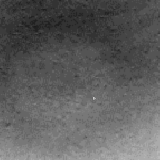Target: (91, 95, 97, 100)
